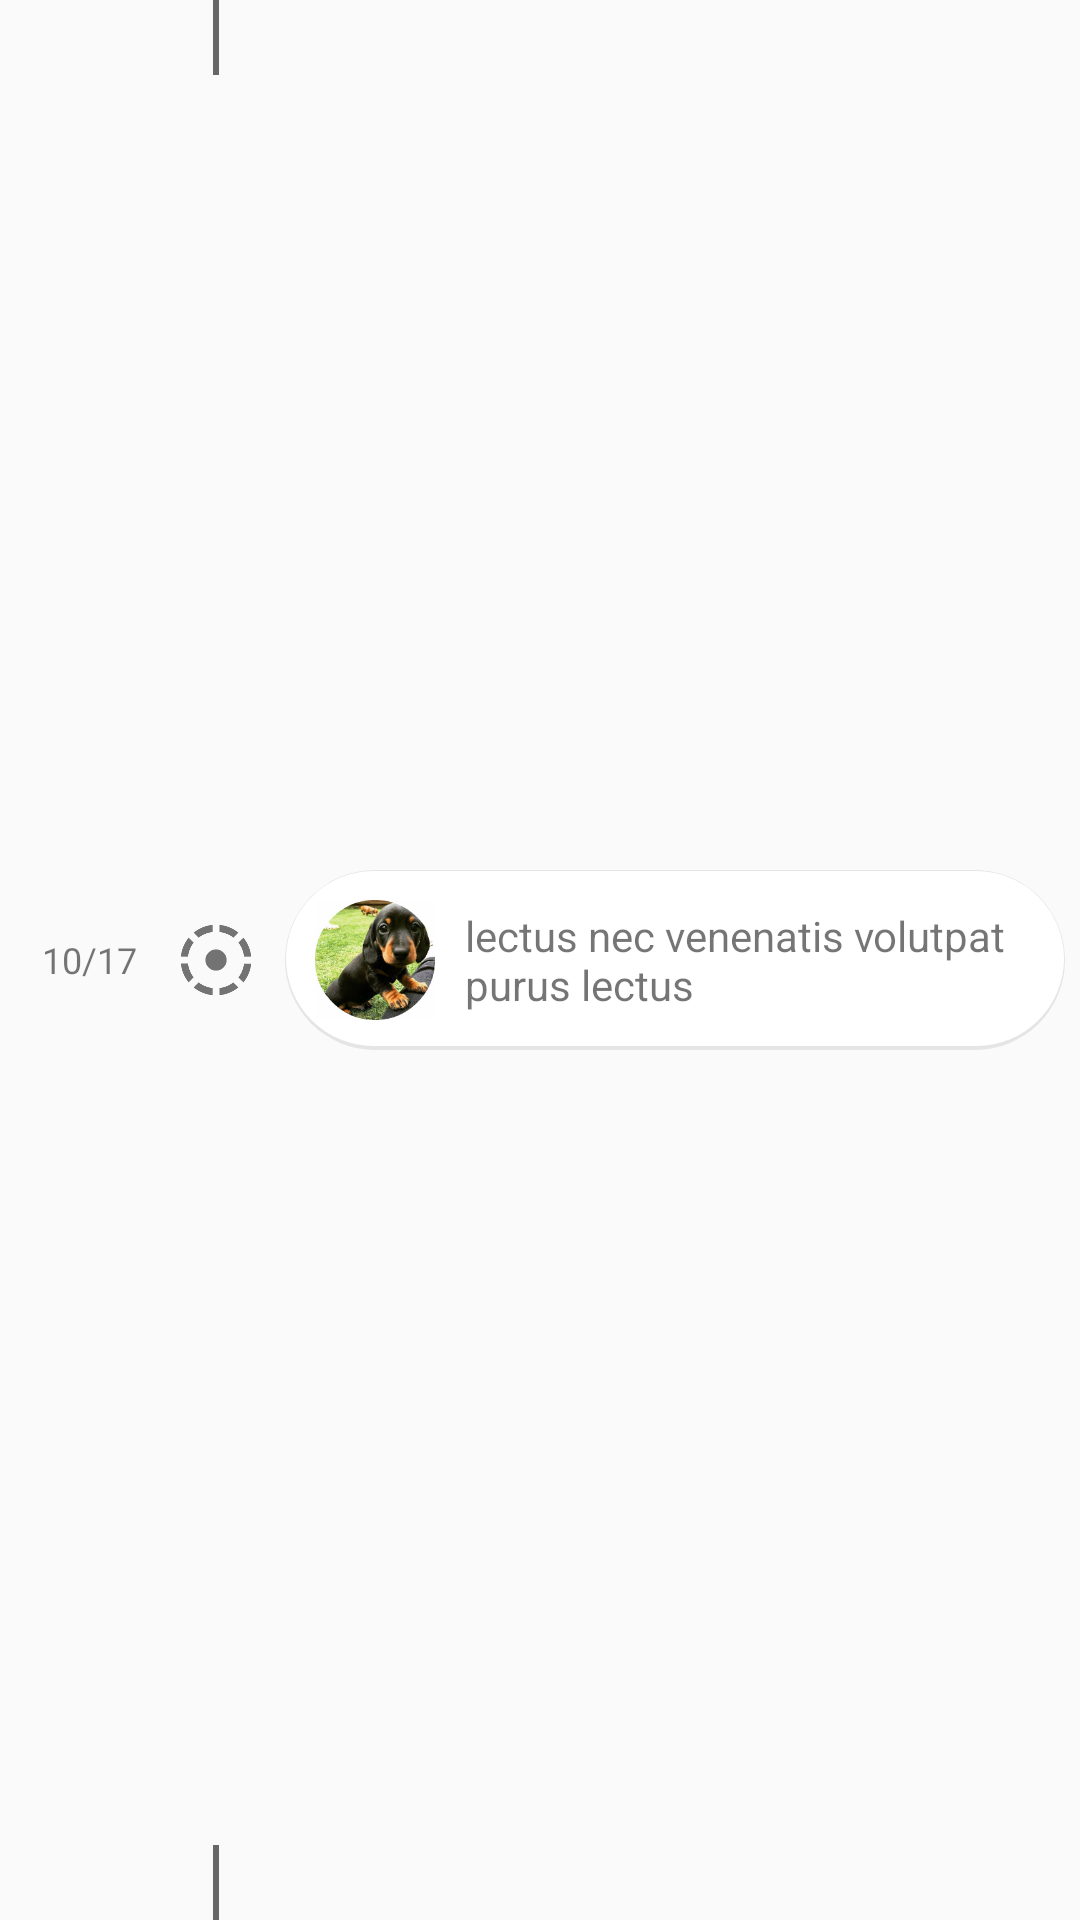

Screen size 1080 x 1920. Icon name, then its box in pixels as {"x1": x1, "y1": y1, "x2": x2, "y2": y2}:
dog: {"x1": 315, "y1": 900, "x2": 435, "y2": 1020}
filter tilt shift: {"x1": 181, "y1": 925, "x2": 251, "y2": 995}
